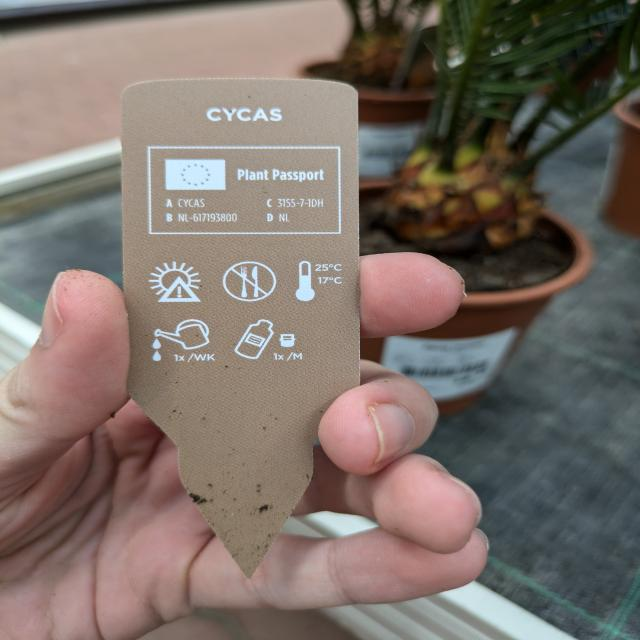dungen: (222, 316, 320, 368)
keine Sonne: (148, 258, 208, 308)
mittel giesen: (148, 317, 222, 365)
